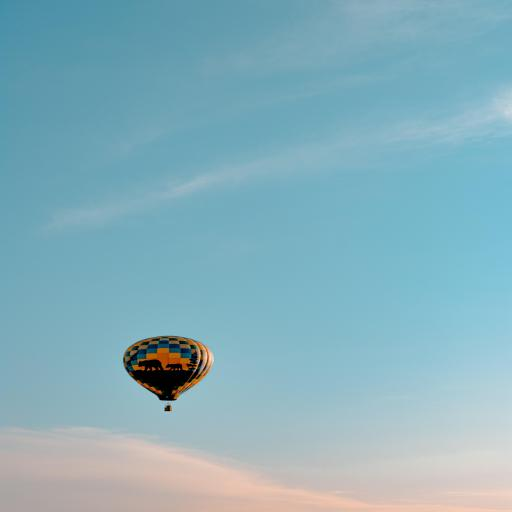hot air ballon: (123, 335, 213, 412)
